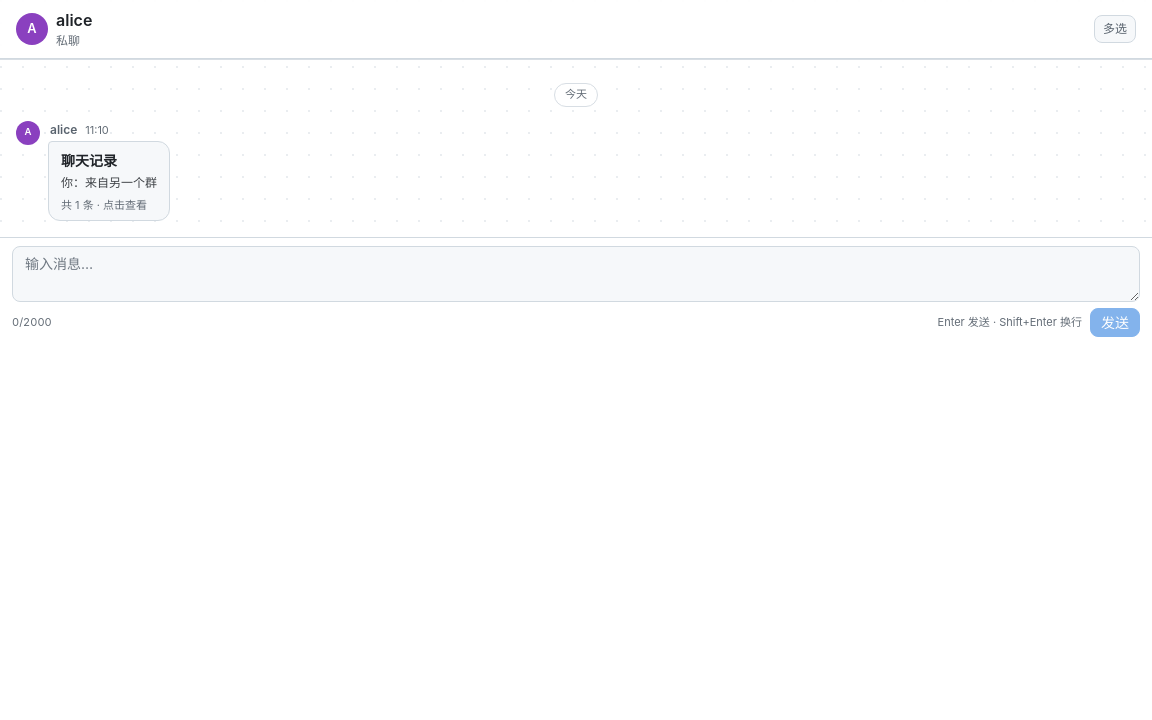
ChatThread › 跨会话聊天记录按 neko id 解析发送者显示名
This screenshot has width=1152, height=720.
Click the button with aria-label "查看聊天记录": (109, 181) [48,141,170,221]
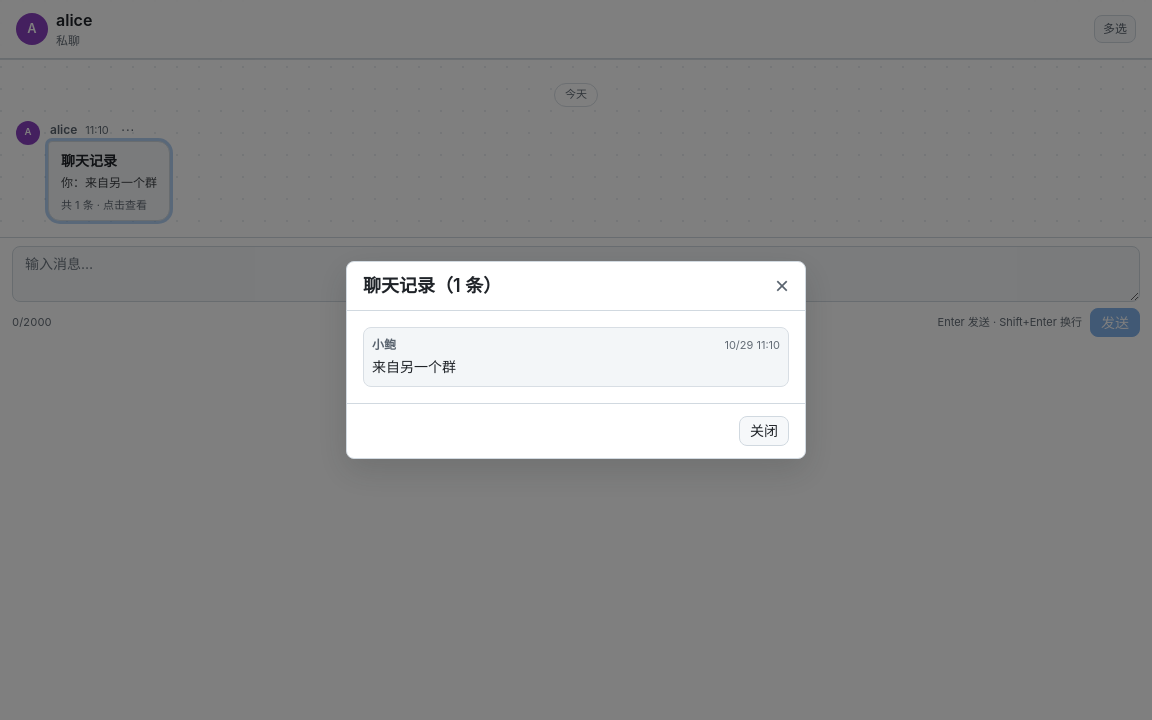
Expected: the dialog "聊天记录" shows "小鲍", [372,337,396,352]
Expected: the dialog "聊天记录" shows "来自另一个群", [372,358,456,375]
